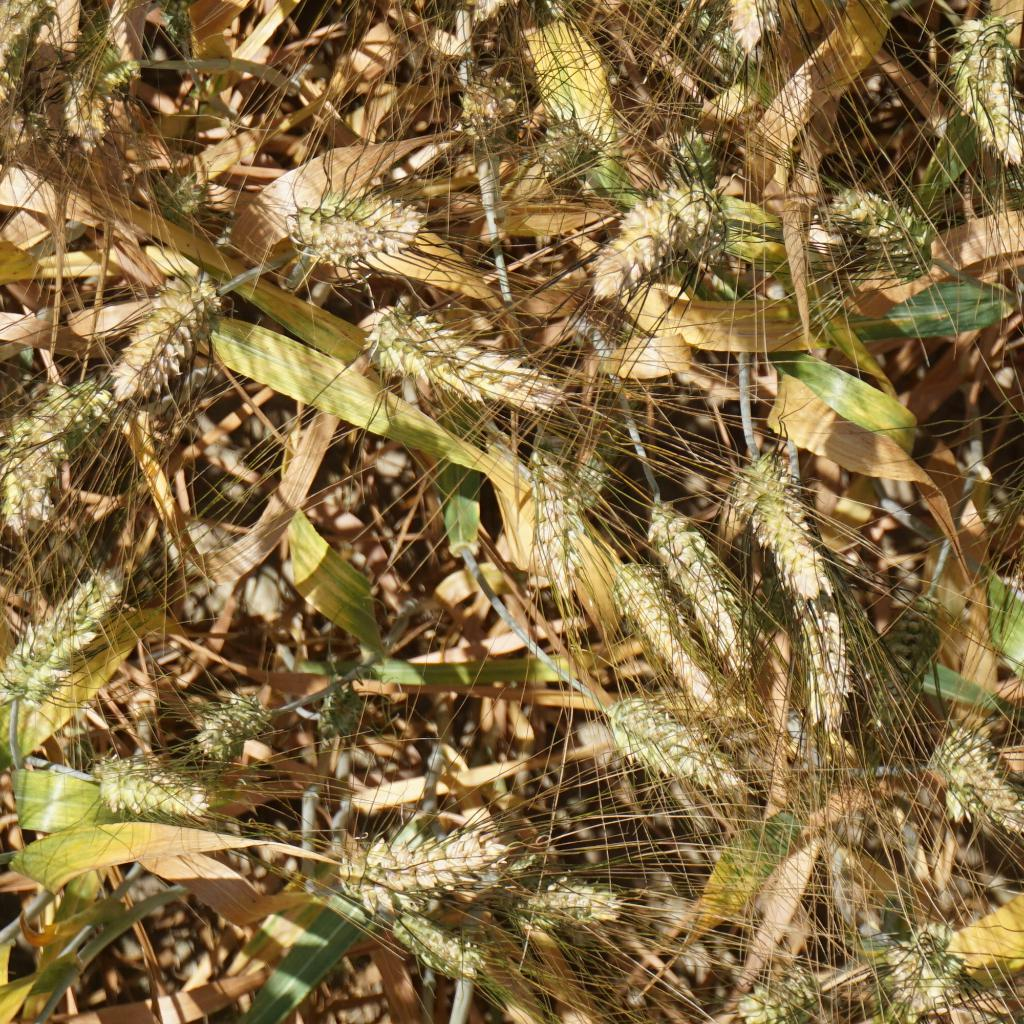0-0: (360, 279, 574, 409), (98, 262, 240, 401), (651, 504, 768, 663), (734, 444, 844, 610), (582, 163, 720, 291), (0, 577, 134, 705), (336, 797, 498, 902), (594, 691, 742, 795), (545, 378, 656, 513), (512, 419, 596, 594), (606, 569, 724, 691), (291, 179, 439, 275), (913, 722, 1024, 846), (90, 738, 218, 830), (949, 0, 1024, 157), (825, 173, 929, 279), (774, 600, 860, 726), (889, 905, 980, 1021), (505, 858, 633, 937), (19, 377, 86, 525), (51, 25, 130, 139), (388, 911, 502, 990), (444, 45, 521, 147), (744, 951, 833, 1024), (145, 154, 221, 238), (313, 667, 386, 754), (525, 104, 598, 190), (198, 685, 279, 761), (0, 0, 43, 121), (646, 116, 716, 179), (153, 0, 202, 51), (647, 0, 714, 33), (734, 0, 787, 31), (1010, 130, 1024, 200)
